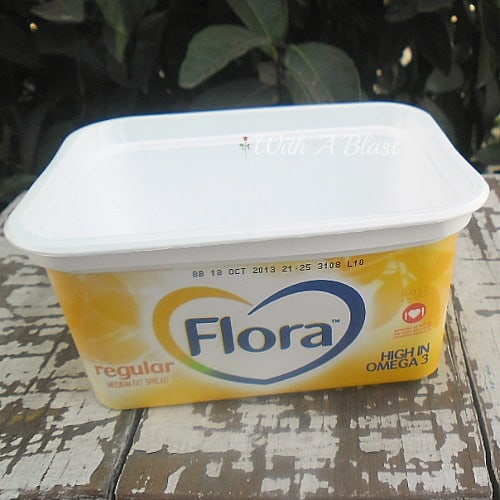PlasticBox: (2, 96, 493, 414)
